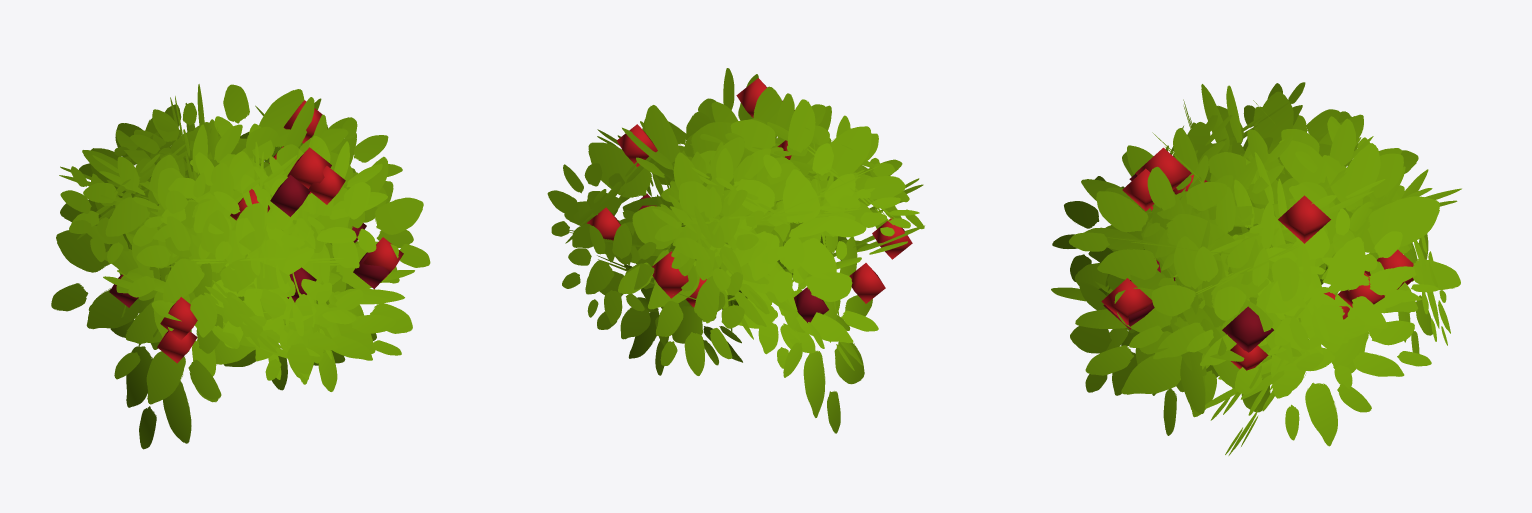
Rendered from bush_fruit_berries_far.gltf.
3 renders of one model, left to right at view 1: azimuth 30°, elevation 25°; view 2: azimuth 150°, elevation 25°; view 3: azimuth 270°, elevation 25°, orthographic. The views are drawn at different scales.
Parts seen in each view (by area): view 1: bush_fruit_berries_far; view 2: bush_fruit_berries_far; view 3: bush_fruit_berries_far.
Boxes of the visible parts, x1=… form: bush_fruit_berries_far: x1=51, y1=84, x2=430, y2=449; bush_fruit_berries_far: x1=547, y1=68, x2=924, y2=433; bush_fruit_berries_far: x1=1051, y1=82, x2=1461, y2=455.
Size of the model in its own units: 1.03 by 1.06 by 1.07.
3 materials, 1 textured.
